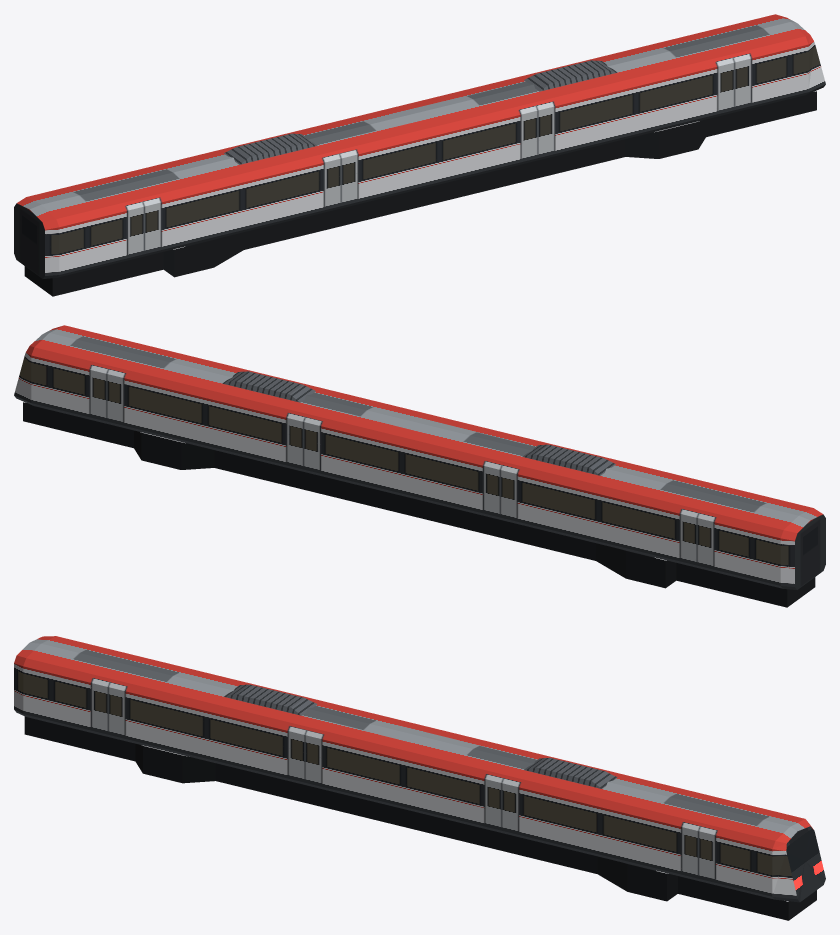
Rendered from breda_vlc__tail.glb.
3 renders of one model, top to bottom at view 1: azimuth 30°, elevation 25°; view 2: azimuth 150°, elevation 25°; view 3: azimuth 330°, elevation 25°, orthographic.
Visible parts, largest first — view 1: breda_vlc__tail; view 2: breda_vlc__tail; view 3: breda_vlc__tail.
Part boxes in pixels (box(x1,y1,x2,y2)): breda_vlc__tail: box(14, 14, 825, 296); breda_vlc__tail: box(14, 325, 825, 607); breda_vlc__tail: box(14, 636, 825, 920).
Size of the model in its own units: 30 by 3.42 by 2.4.
Materials: 1 (1 with a texture image).
